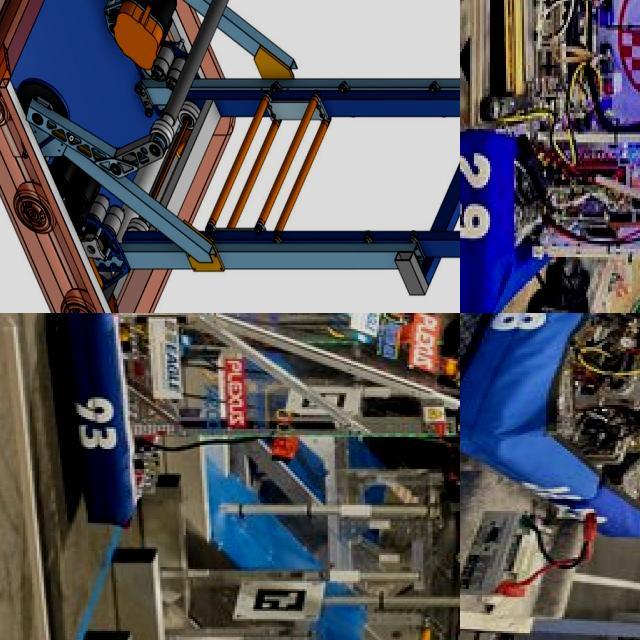FRC-Robots: (0, 0, 460, 313), (55, 313, 460, 543), (460, 0, 640, 313), (460, 313, 640, 538)
